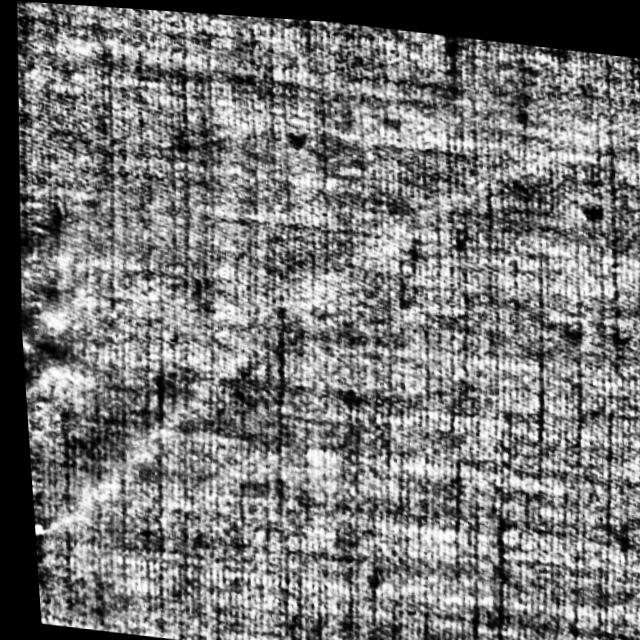Hole: (28, 525, 39, 537)
